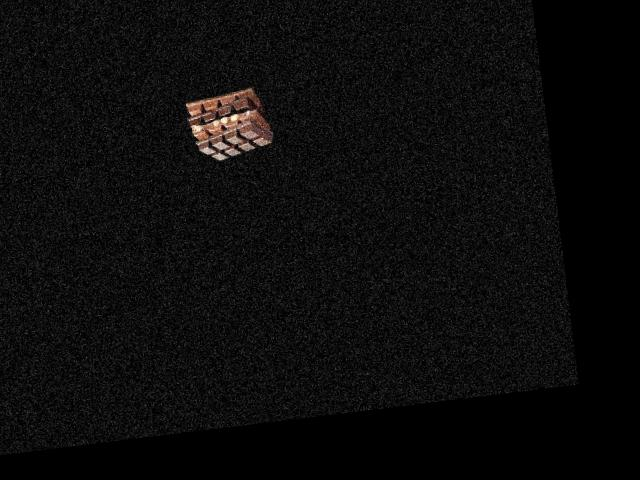chocolate: (185, 83, 270, 163)
